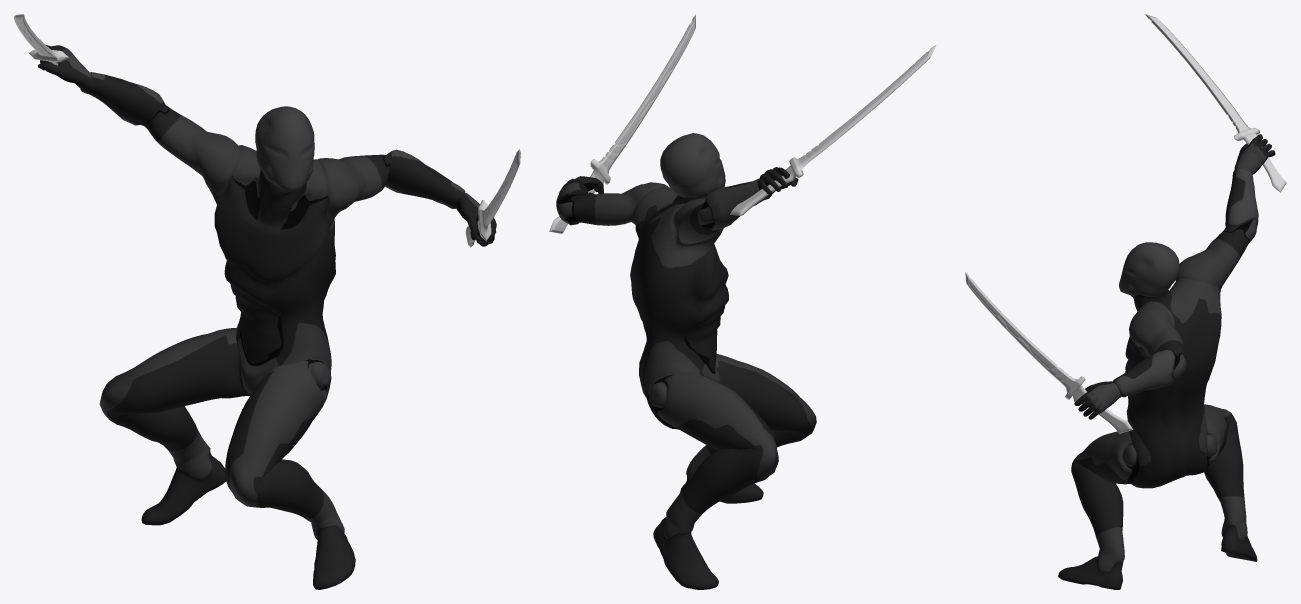
3 renders of one model, left to right at view 1: azimuth 30°, elevation 25°; view 2: azimuth 150°, elevation 25°; view 3: azimuth 270°, elevation 25°, orthographic. The views are drawn at different scales.
Visible parts, largest first — view 1: Cyborg_Ninja_Killer, Sword_l, Sword_l001; view 2: Cyborg_Ninja_Killer, Sword_l, Sword_l001; view 3: Cyborg_Ninja_Killer, Sword_l, Sword_l001.
Part boxes in pixels (x1=…): Cyborg_Ninja_Killer: x1=38, y1=45, x2=496, y2=589; Sword_l: x1=465, y1=149, x2=520, y2=247; Sword_l001: x1=14, y1=14, x2=68, y2=65; Cyborg_Ninja_Killer: x1=556, y1=133, x2=816, y2=589; Sword_l: x1=549, y1=14, x2=695, y2=233; Sword_l001: x1=730, y1=45, x2=936, y2=215; Cyborg_Ninja_Killer: x1=1058, y1=134, x2=1275, y2=589; Sword_l: x1=965, y1=272, x2=1132, y2=433; Sword_l001: x1=1145, y1=14, x2=1286, y2=192.
Size of the model in its own units: 153 by 199 by 124.
